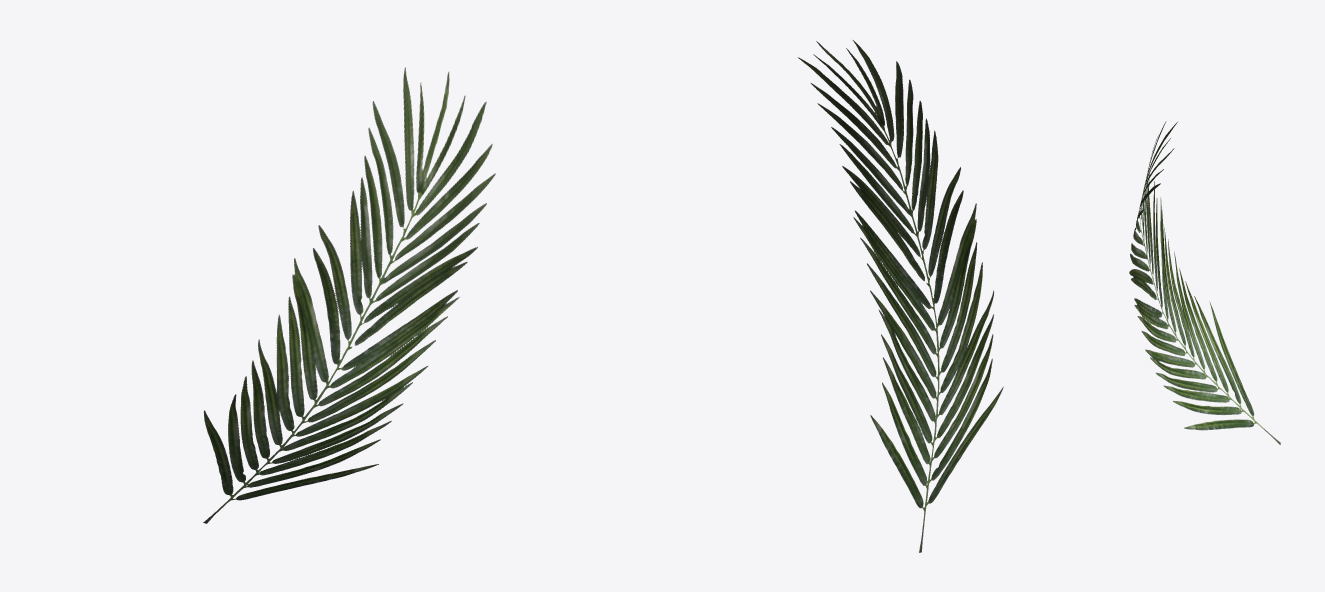
The picture shows the model from 3 angles, left to right: view 1: azimuth 30°, elevation 25°; view 2: azimuth 150°, elevation 25°; view 3: azimuth 270°, elevation 25°; orthographic projection. The views are drawn at different scales.
Parts seen in each view (by area): view 1: leaves.002; view 2: leaves.002; view 3: leaves.002.
Part boxes in pixels (x1,y1,x2,y2): leaves.002: (203, 67, 495, 523); leaves.002: (797, 40, 1003, 552); leaves.002: (1129, 121, 1280, 444).
Size of the model in its own units: 1.29 by 1.47 by 0.5356.
Materials: 1 (1 with a texture image).
